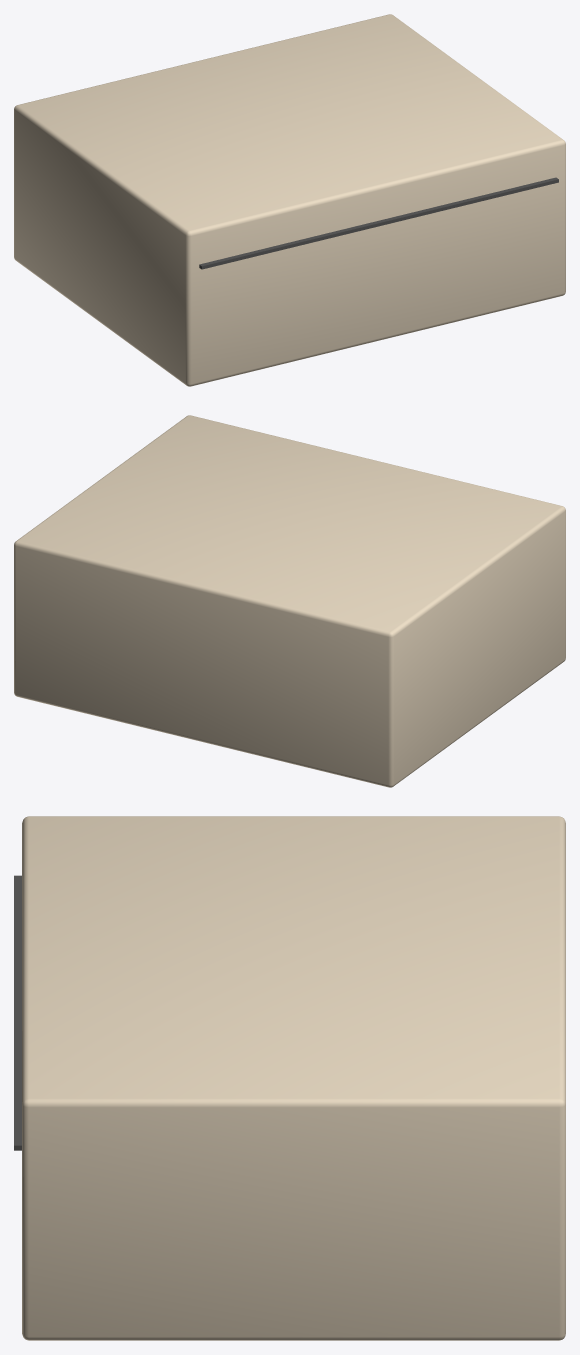
File: mo_nightstand.glb
3 renders of one model, top to bottom at view 1: azimuth 30°, elevation 25°; view 2: azimuth 150°, elevation 25°; view 3: azimuth 270°, elevation 25°, orthographic. The views are drawn at different scales.
Visible parts, largest first — view 1: body, gap; view 2: body; view 3: body, gap.
Part boxes in pixels (x1,y1,x2,y2): body: (14, 14, 565, 386); gap: (199, 177, 558, 269); body: (14, 415, 565, 787); body: (22, 816, 565, 1340); gap: (14, 875, 21, 1150).
Bounding box in the file's own units: 0.5 × 0.2 × 0.406.
